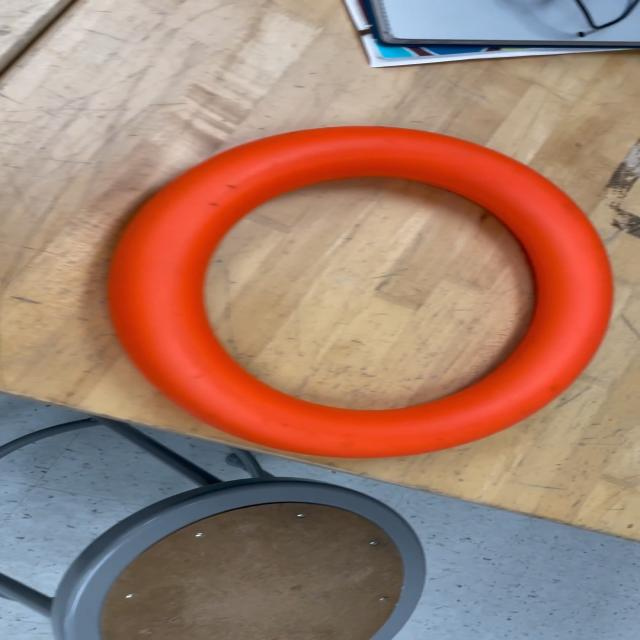note: (95, 123, 617, 459)
